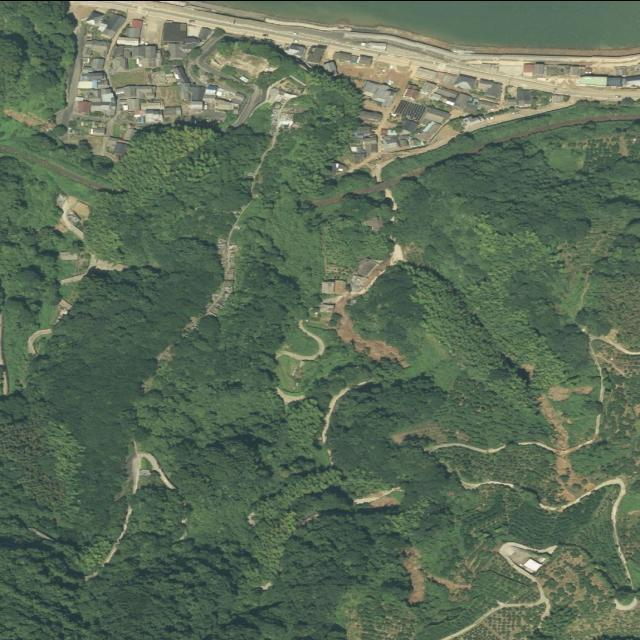landslide: (335, 311, 409, 367)
